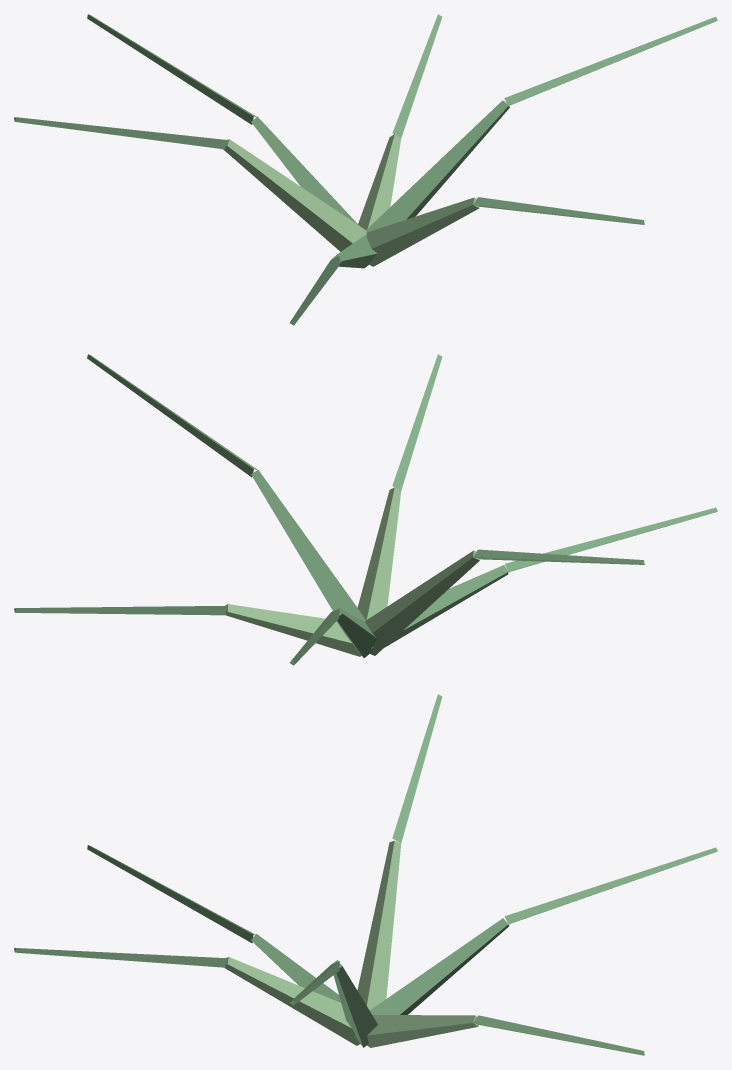
File: fern_v17.glb
The picture shows the model from 3 angles, top to bottom: view 1: azimuth 30°, elevation 25°; view 2: azimuth 150°, elevation 25°; view 3: azimuth 270°, elevation 25°; orthographic projection.
Parts seen in each view (by area): view 1: lod0; view 2: lod0; view 3: lod0.
Part boxes in pixels (left/top/right/bottom): lod0: left=14, top=14, right=717, bottom=325; lod0: left=14, top=354, right=717, bottom=665; lod0: left=14, top=694, right=717, bottom=1055.
Size of what is drawn, in the model's own units: 1.45 by 0.4387 by 1.41.
